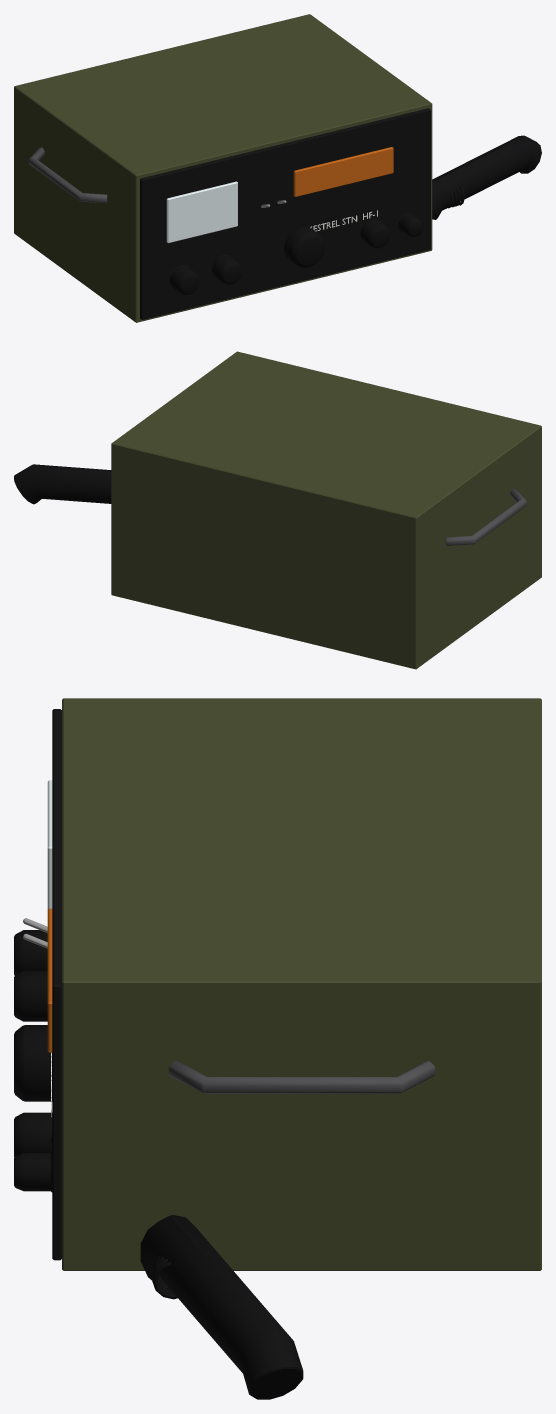
File: radio_set.glb
3 renders of one model, top to bottom at view 1: azimuth 30°, elevation 25°; view 2: azimuth 150°, elevation 25°; view 3: azimuth 270°, elevation 25°, orthographic. The views are drawn at different scales.
Visible parts, largest first — view 1: radio_set; view 2: radio_set; view 3: radio_set.
Boxes of the visible parts, <box> form: radio_set: <box>14,14,541,322</box>; radio_set: <box>14,351,541,669</box>; radio_set: <box>14,698,541,1399</box>.
Bounding box in the file's own units: 0.6772 × 0.2 × 0.33.
